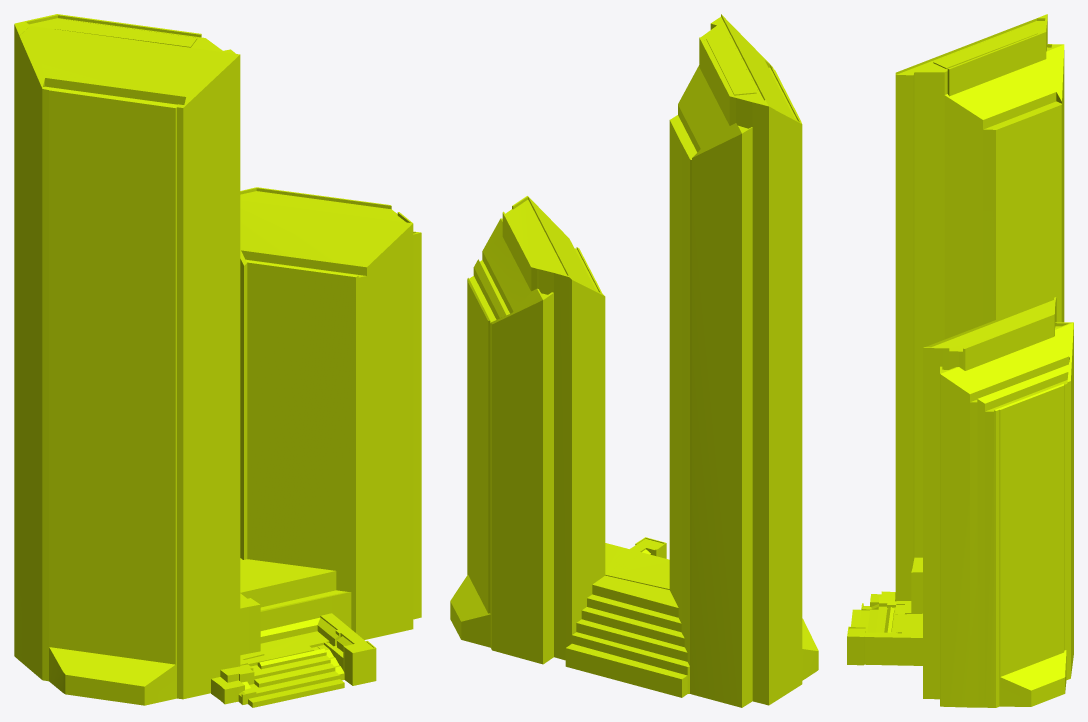
Rendered from suncor-energy-center-main-floor.gltf.
The picture shows the model from 3 angles, left to right: view 1: azimuth 30°, elevation 25°; view 2: azimuth 150°, elevation 25°; view 3: azimuth 270°, elevation 25°; orthographic projection. The views are drawn at different scales.
Visible parts, largest first — view 1: suncor-energy-center.001; view 2: suncor-energy-center.001; view 3: suncor-energy-center.001.
Part boxes in pixels (box(x1,y1,x2,y2)): suncor-energy-center.001: box(14, 14, 421, 707); suncor-energy-center.001: box(450, 14, 818, 707); suncor-energy-center.001: box(847, 14, 1073, 707).
Bounding box in the file's own units: 127 × 218 × 81.71.
